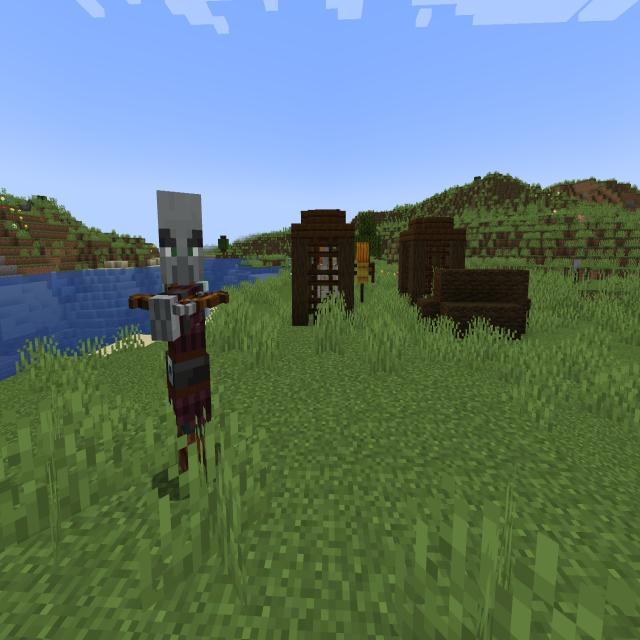iron golem: (312, 248, 344, 324)
